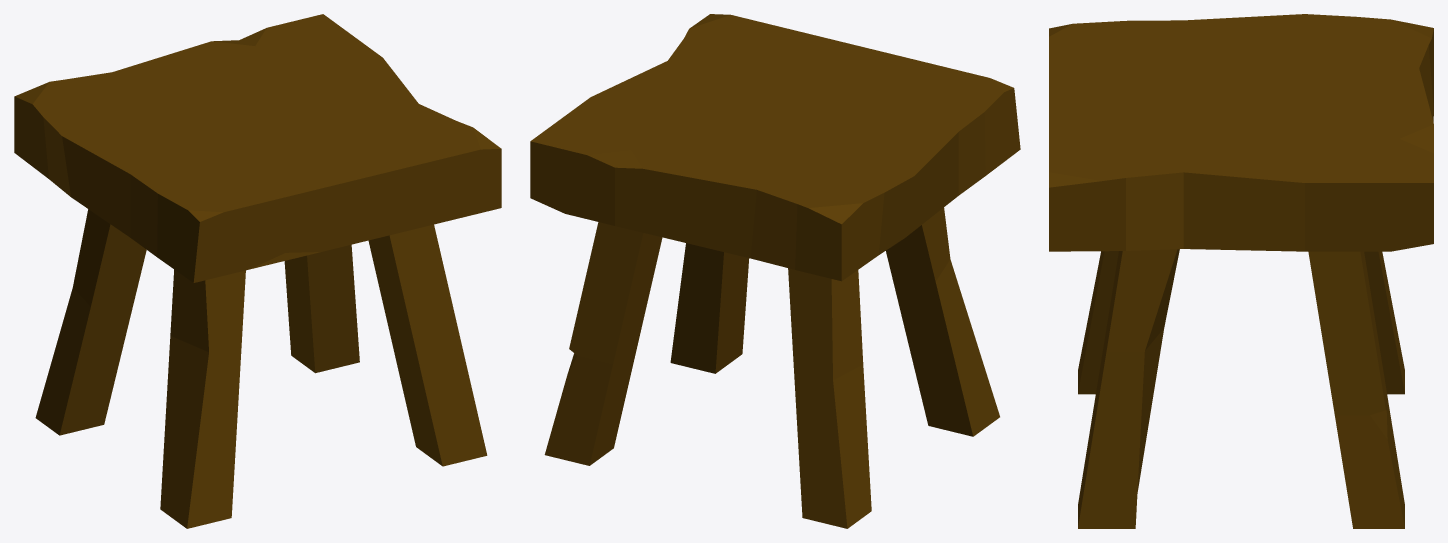
Rendered from table.fbx.
3 renders of one model, left to right at view 1: azimuth 30°, elevation 25°; view 2: azimuth 150°, elevation 25°; view 3: azimuth 270°, elevation 25°, orthographic. The views are drawn at different scales.
Visible parts, largest first — view 1: Wooden_Stool; view 2: Wooden_Stool; view 3: Wooden_Stool.
Boxes of the visible parts, box(x1,y1,x2,y2) form: Wooden_Stool: box(14, 14, 501, 528); Wooden_Stool: box(530, 14, 1020, 528); Wooden_Stool: box(1049, 14, 1433, 528).
Bounding box in the file's own units: 80.76 × 77.12 × 77.7.
